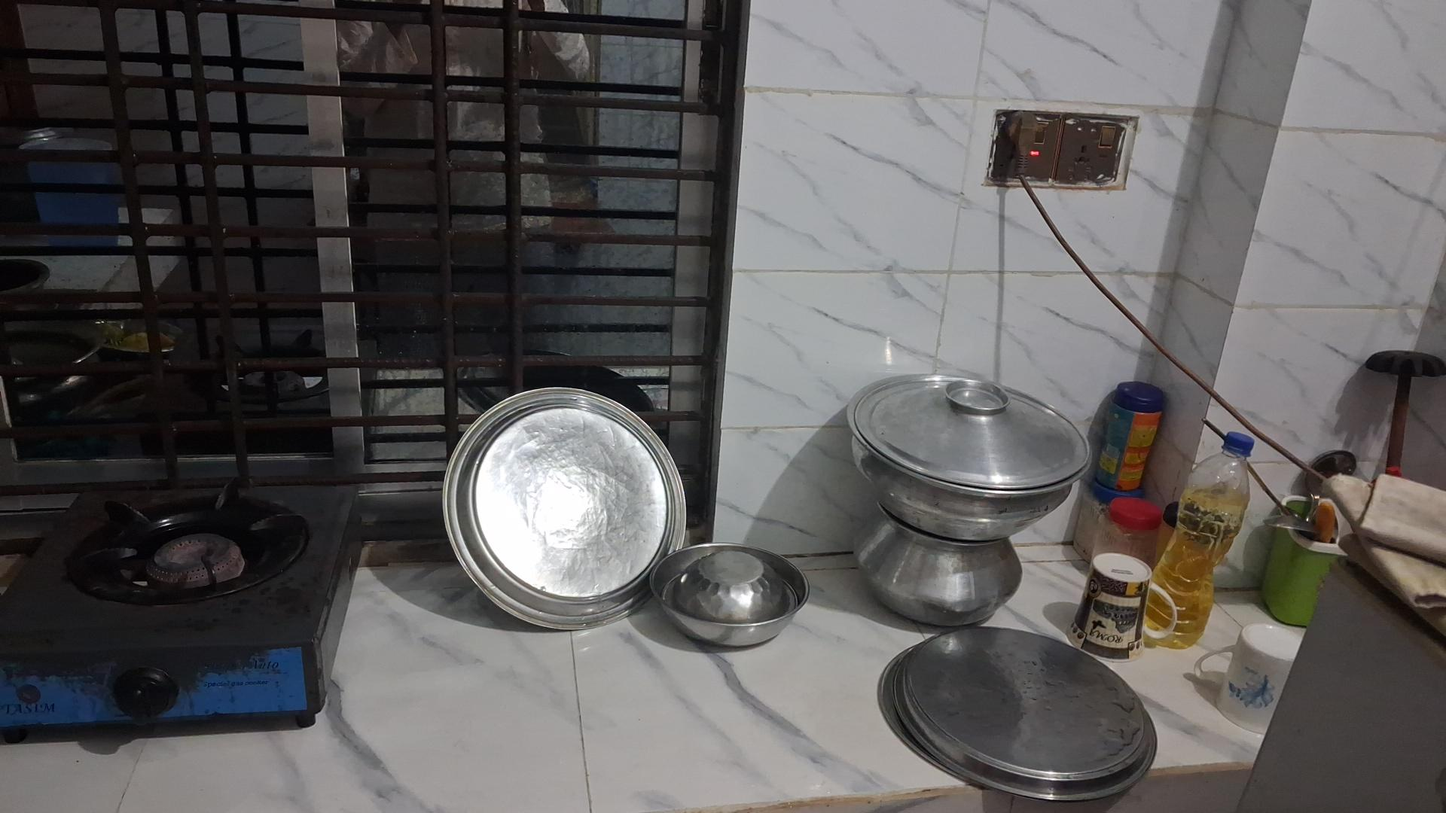Bottle: (1142, 431, 1255, 651)
Bowl: (651, 542, 809, 650)
Cup: (1188, 620, 1306, 734), (1077, 554, 1178, 660)
Jar: (1097, 381, 1170, 490)
Plate: (440, 389, 691, 630), (881, 630, 1151, 805)
Pot: (843, 369, 1072, 529), (854, 522, 1030, 623)
